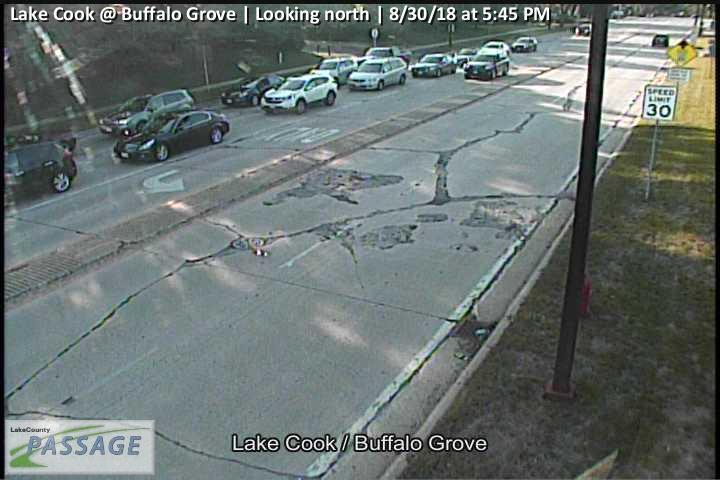SUV: (1, 143, 77, 203), (99, 89, 196, 136), (261, 71, 339, 114), (348, 57, 407, 91), (319, 57, 359, 84), (363, 47, 402, 67)
Sedan: (114, 110, 230, 162), (221, 73, 288, 106), (411, 52, 456, 77), (480, 41, 512, 60), (455, 47, 478, 66), (513, 37, 538, 52)
Truck: (463, 52, 509, 80)
